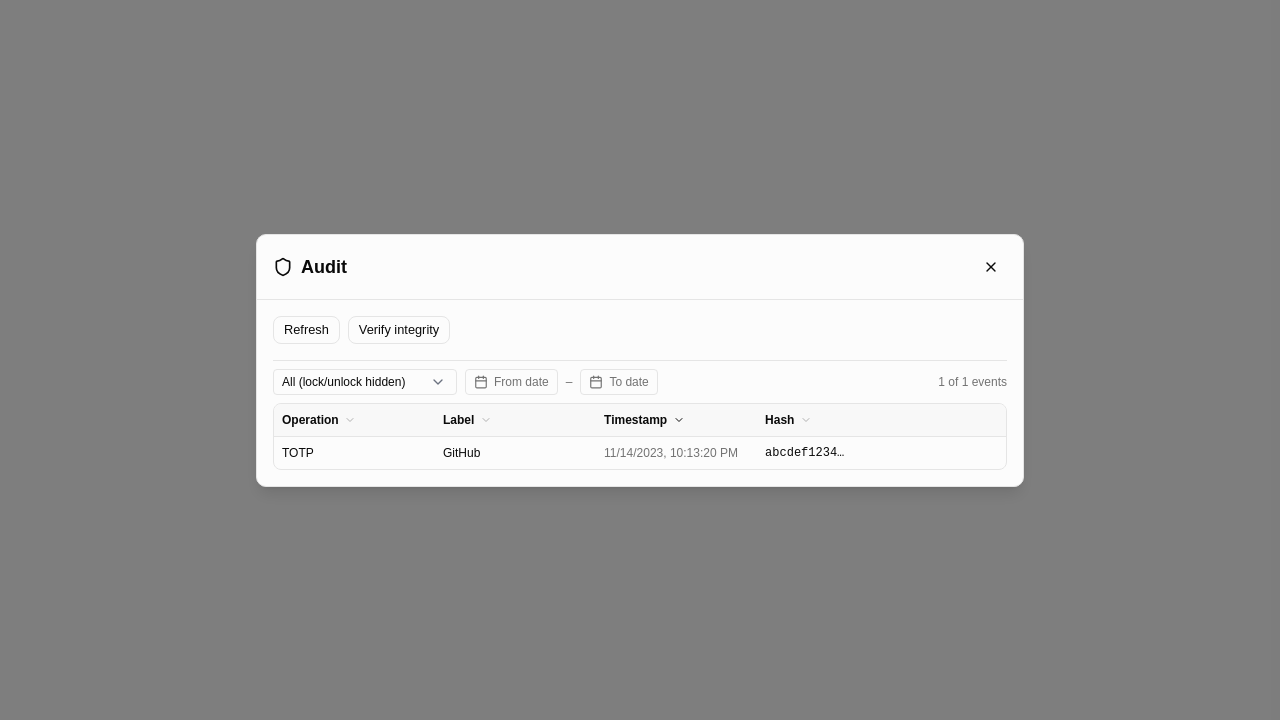
Test: AuditPanel › shows nothing to verify for empty events
Click the button "Verify integrity" at (399, 330), box [348,316,450,344]
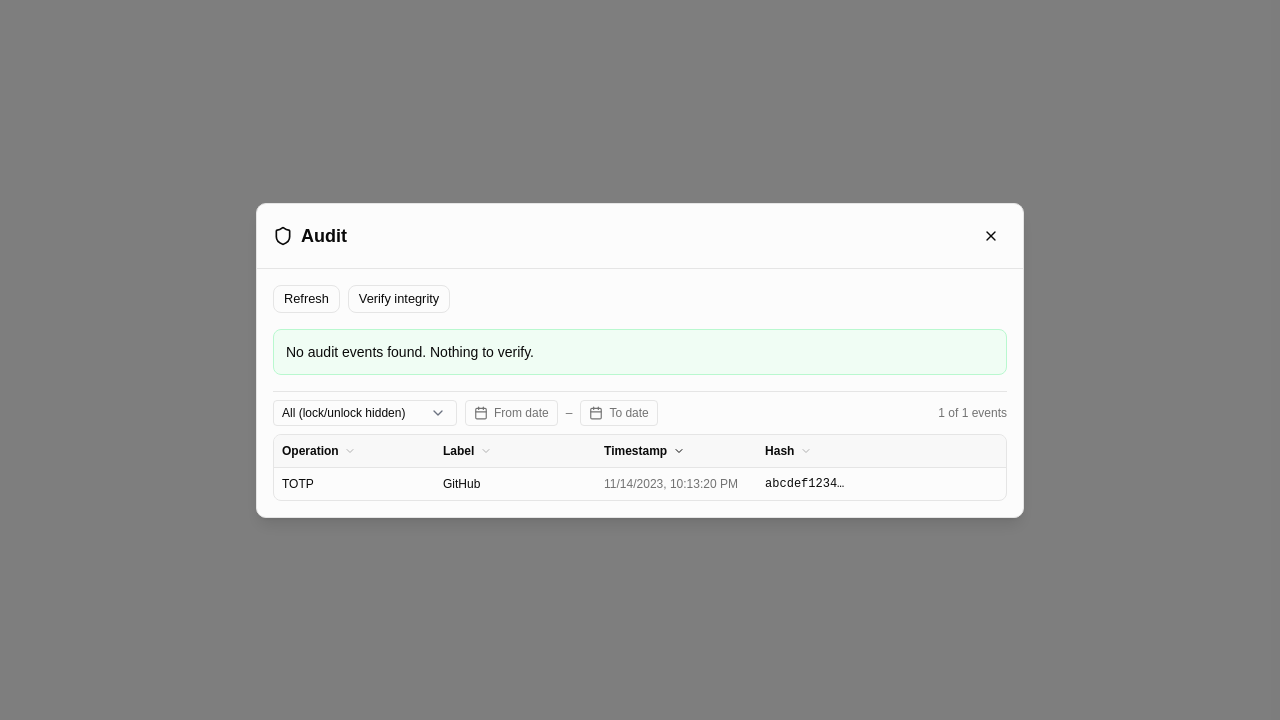
Result: the text "No audit events found. Nothing to verify." is shown at [286,344,534,360]
